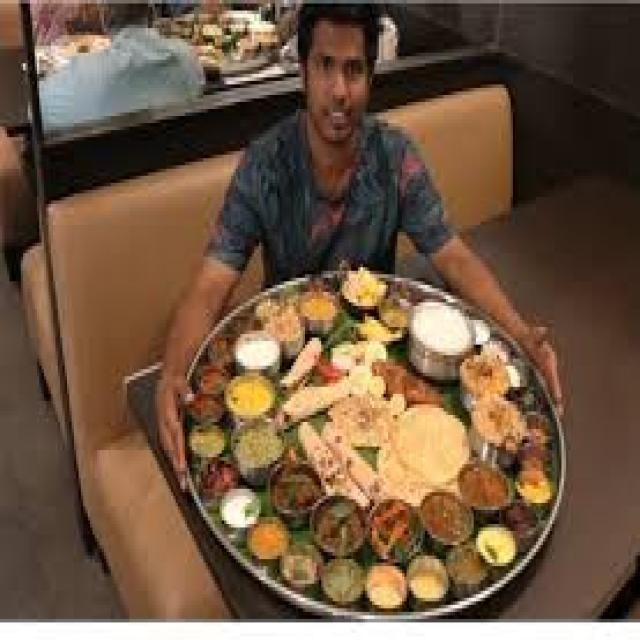curd: (216, 483, 266, 531)
sweet: (193, 466, 257, 517), (189, 455, 245, 499), (232, 331, 279, 373)
